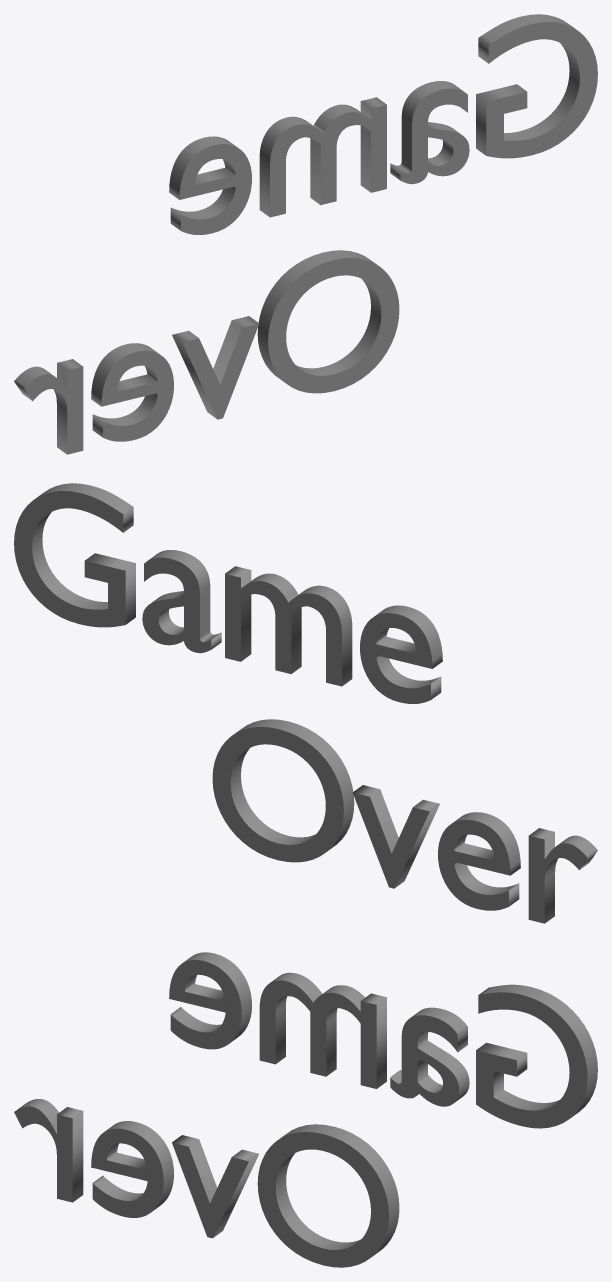
File: gameover.obj
The picture shows the model from 3 angles, top to bottom: view 1: azimuth 30°, elevation 25°; view 2: azimuth 150°, elevation 25°; view 3: azimuth 330°, elevation 25°; orthographic projection.
Parts seen in each view (by area): view 1: GameOver; view 2: GameOver; view 3: GameOver.
Part boxes in pixels (box(x1,y1,x2,y2)): GameOver: box(14, 14, 597, 454); GameOver: box(14, 483, 597, 923); GameOver: box(14, 952, 597, 1267).
Size of the model in its own units: 3.2 by 1.7 by 0.1.
